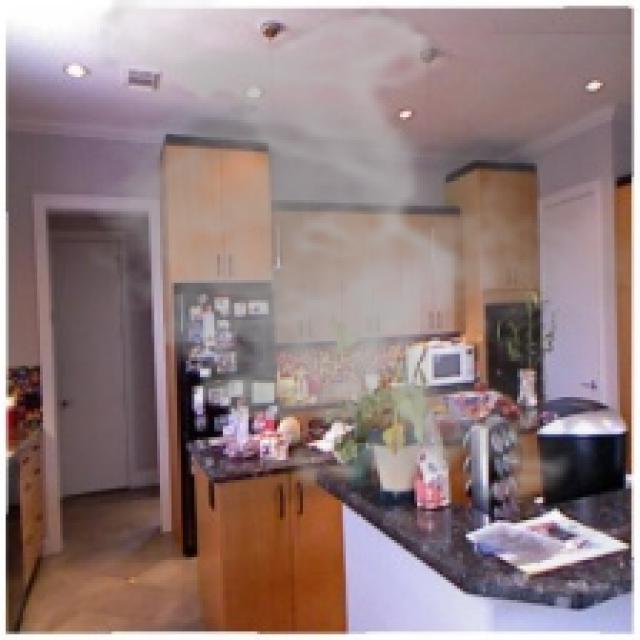smoke: (75, 0, 634, 520)
